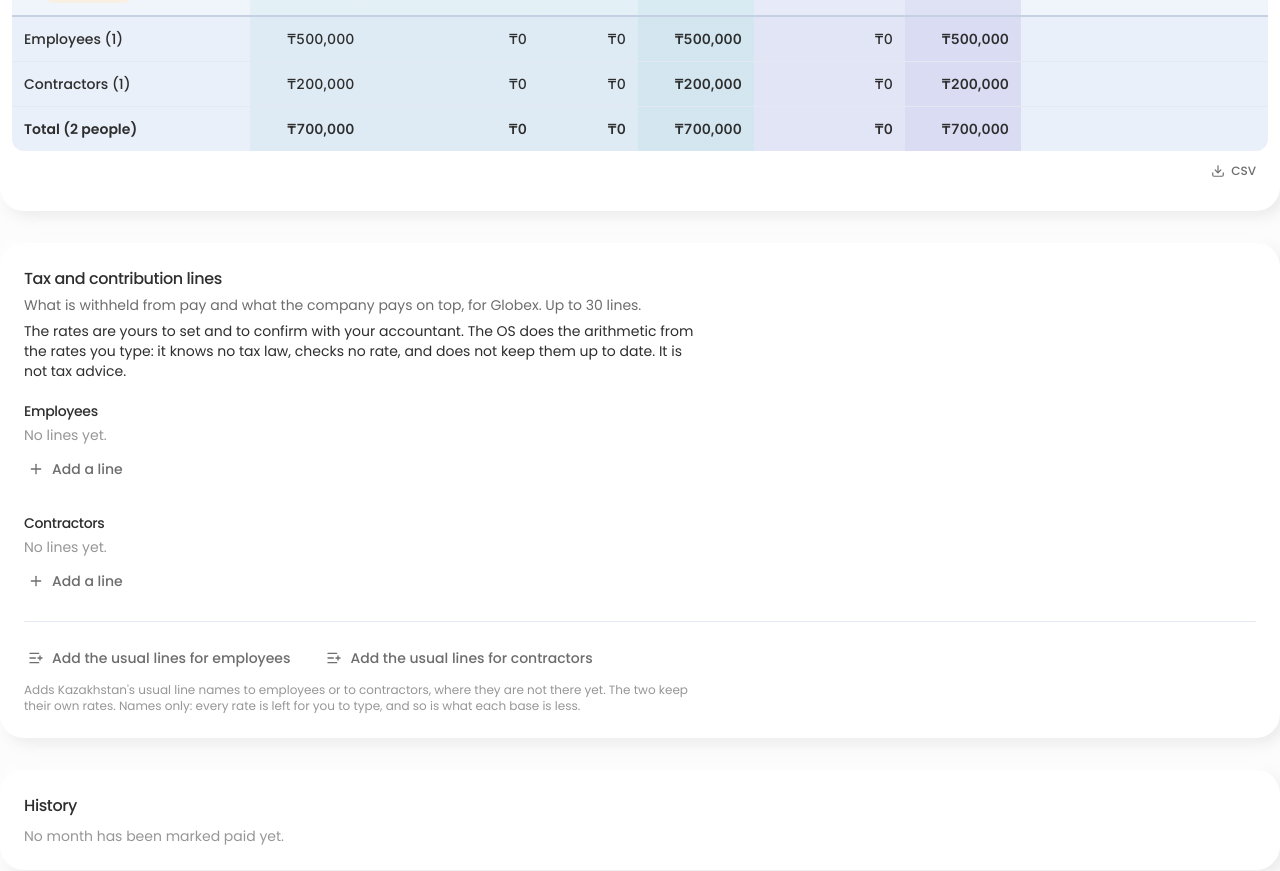
Test: PayrollView: tax and contribution lines › Rate (%) of 12.345 is said before anything is sent
(page scrolled)
Click the button named "Add a line for employees": (75, 469) left=12, top=449, right=139, bottom=489
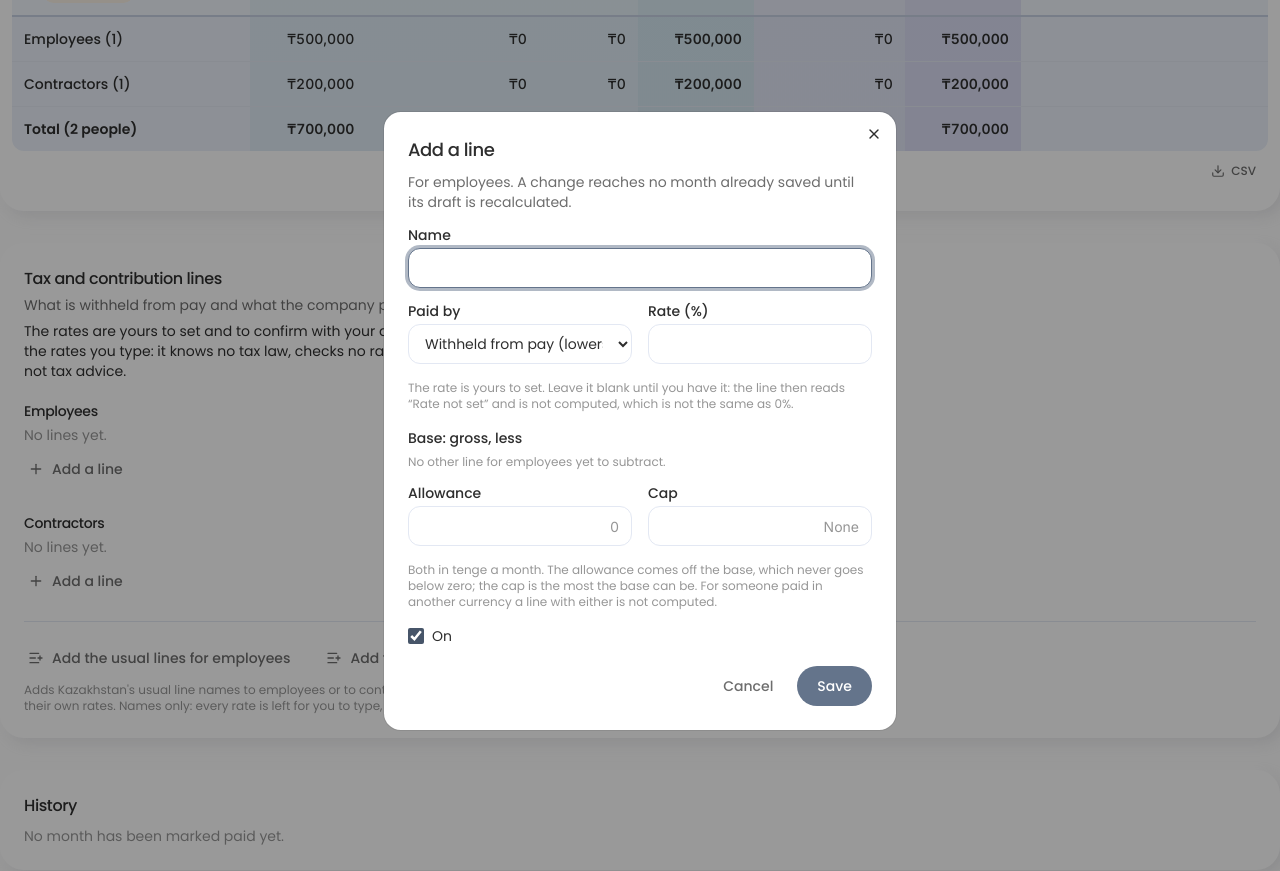
In the field labelled "Name": (640, 268) left=408, top=248, right=872, bottom=288, type "Income"
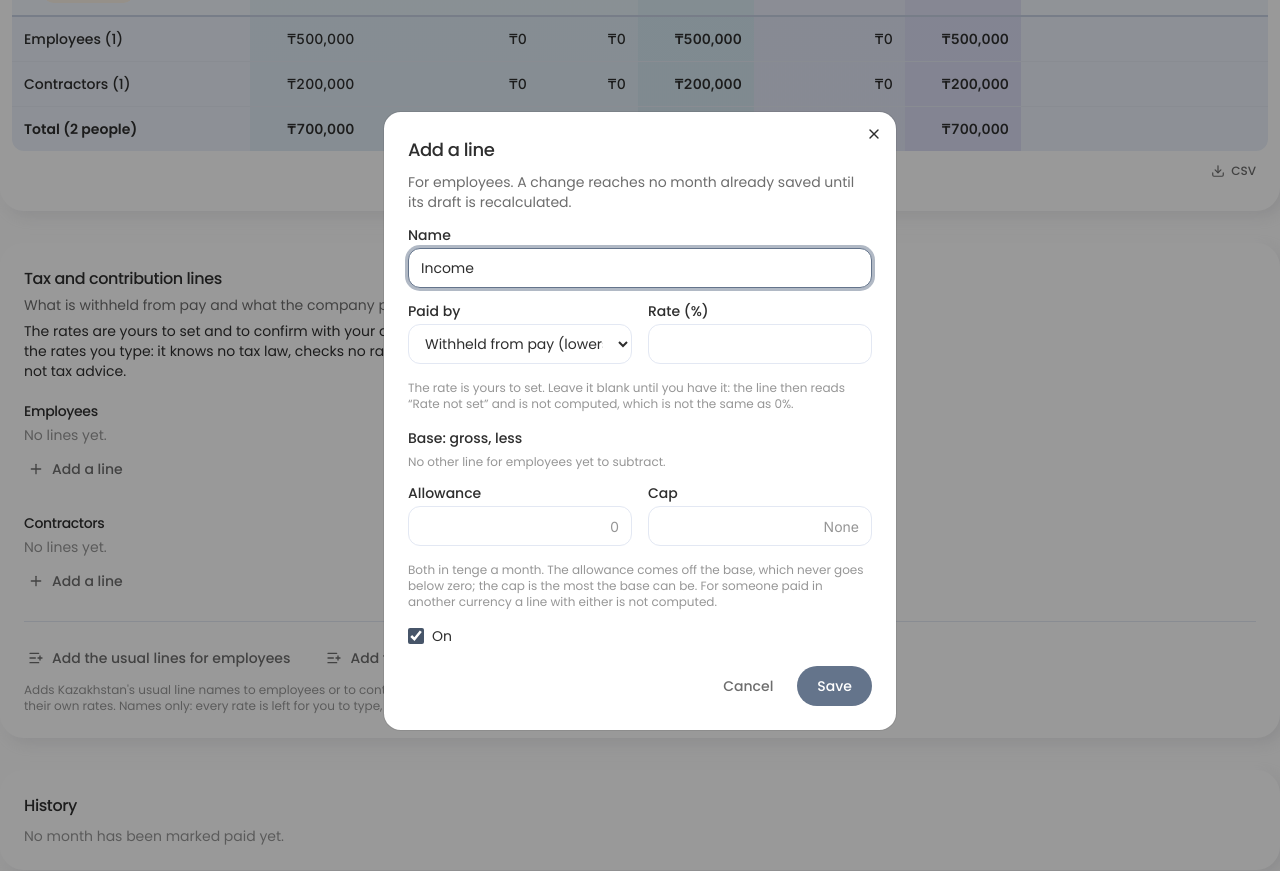
In the field labelled "Rate (%)": (760, 344) left=648, top=324, right=872, bottom=364, type "12.345"
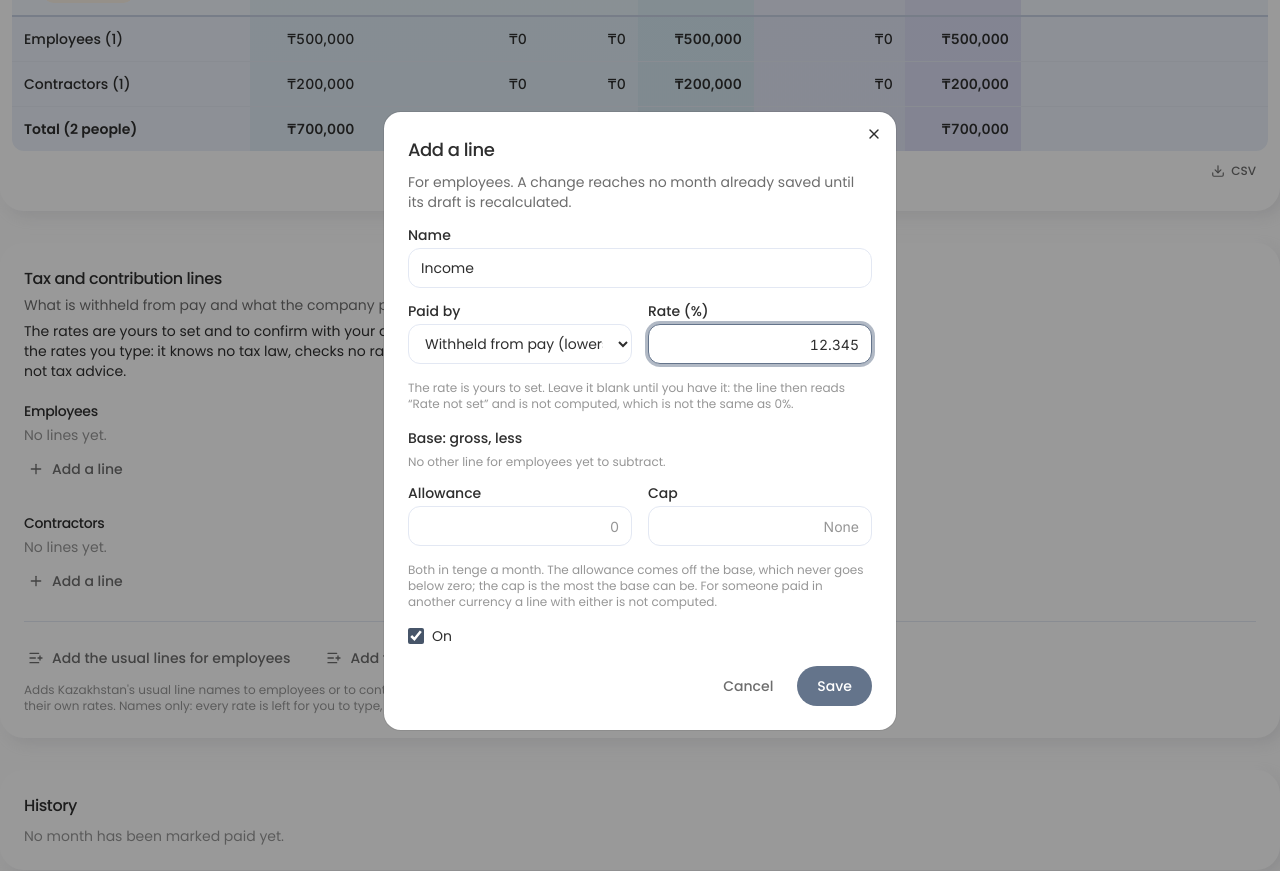
Click the button "Save": (835, 686) left=797, top=666, right=872, bottom=706
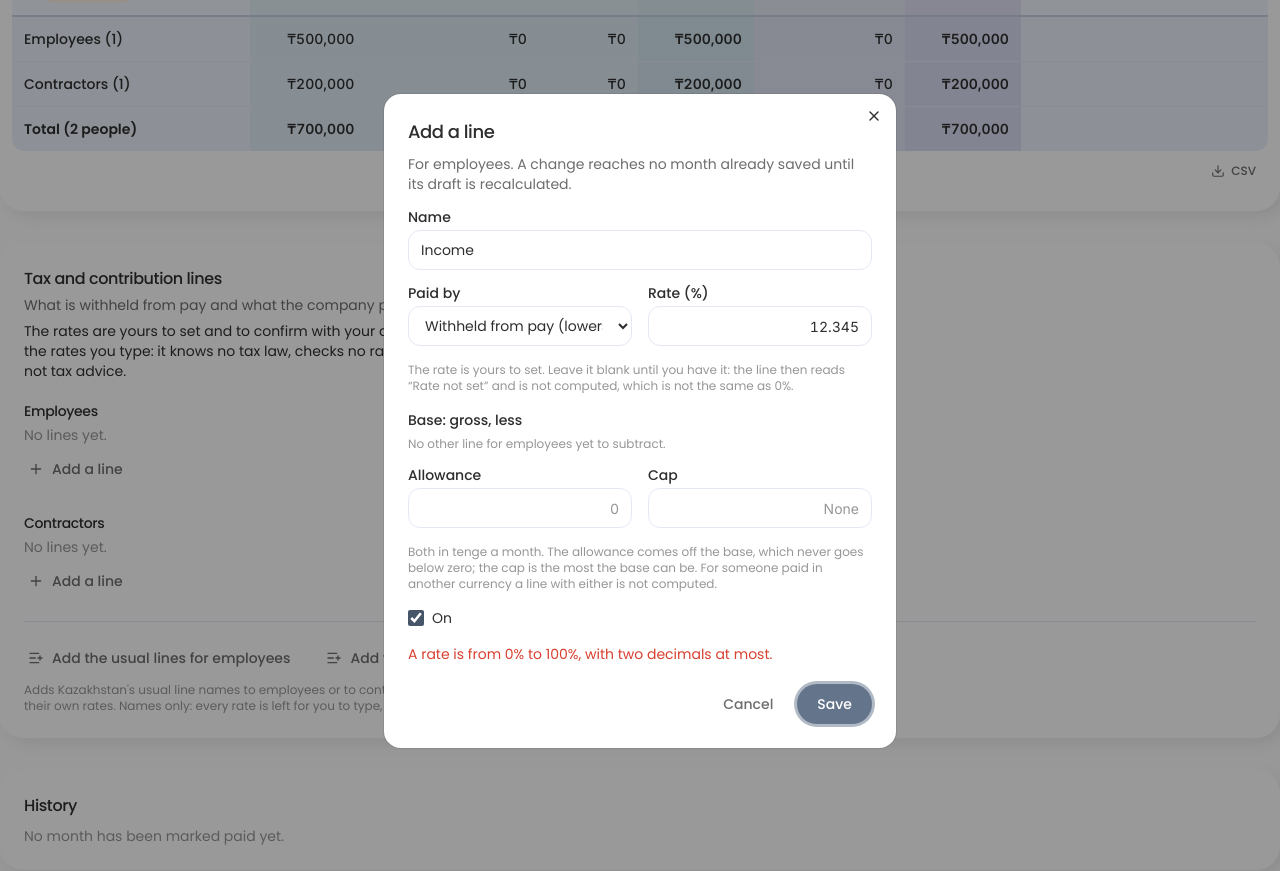
Expected: the message reads "A rate is from 0% to 100%, with two decimals at most.", left=408, top=644, right=772, bottom=664
